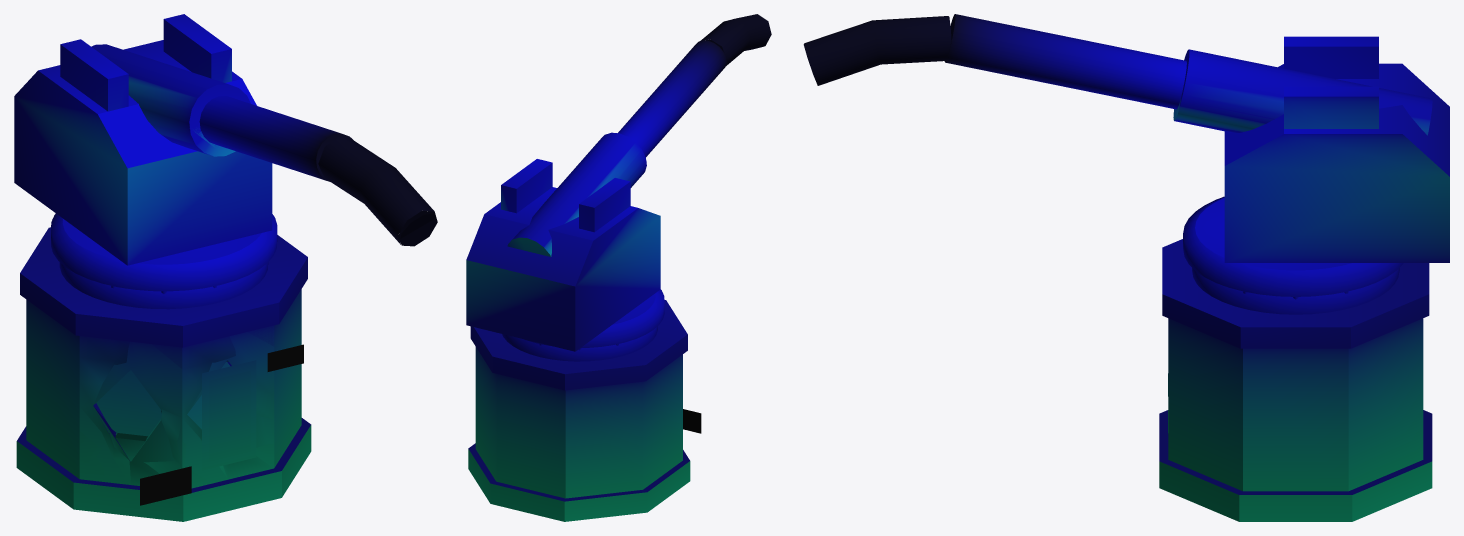
File: longtomturret_damaged.glb
3 views of the same model, side by side, from view 1: azimuth 30°, elevation 25°; view 2: azimuth 150°, elevation 25°; view 3: azimuth 270°, elevation 25° (orthographic). The views are drawn at different scales.
Parts seen in each view (by area): view 1: lod0_Base, lod0_Turret, lod0_Gun, lod1_Base, lod1_Turret; view 2: lod0_Base, lod0_Turret, lod0_Gun; view 3: lod0_Base, lod0_Turret, lod0_Gun, lod1_Turret.
Boxes of the visible parts, left/top/right/bottom form: lod0_Base: left=16, top=227, right=311, bottom=521; lod0_Turret: left=14, top=14, right=277, bottom=291; lod0_Gun: left=91, top=44, right=437, bottom=246; lod1_Base: left=79, top=326, right=274, bottom=485; lod1_Turret: left=52, top=216, right=275, bottom=291; lod0_Base: left=468, top=300, right=701, bottom=521; lod0_Turret: left=466, top=159, right=664, bottom=351; lod0_Gun: left=507, top=14, right=771, bottom=256; lod0_Base: left=1159, top=239, right=1432, bottom=521; lod0_Turret: left=1183, top=36, right=1449, bottom=296; lod0_Gun: left=803, top=14, right=1432, bottom=135; lod1_Turret: left=1185, top=196, right=1393, bottom=294.
Size of the model in its own units: 4.6 by 8.34 by 10.96.
